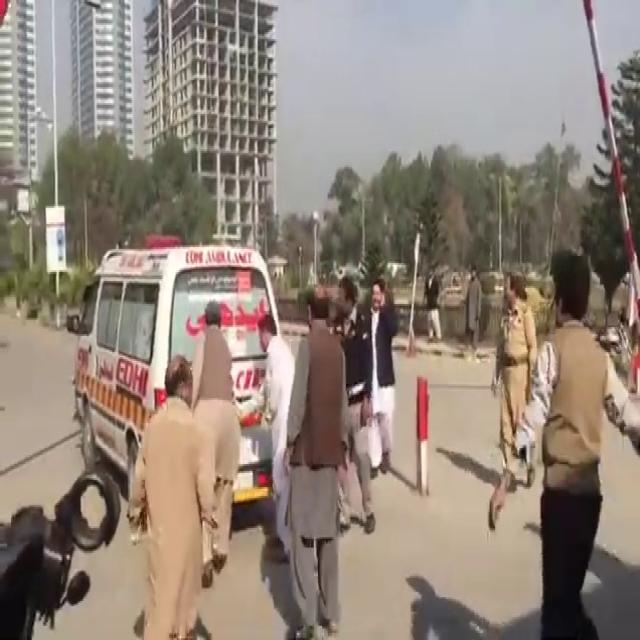ambulance: (73, 228, 311, 486)
